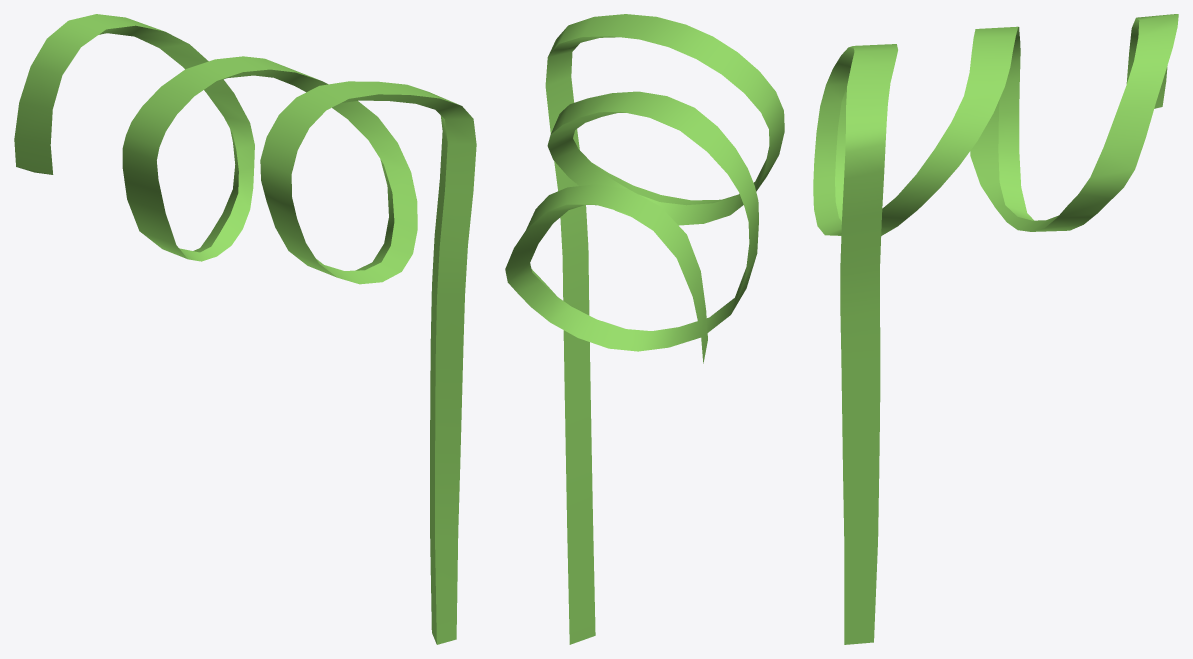
Rendered from lianas_O.fbx.
The picture shows the model from 3 angles, left to right: view 1: azimuth 30°, elevation 25°; view 2: azimuth 150°, elevation 25°; view 3: azimuth 270°, elevation 25°; orthographic projection. The views are drawn at different scales.
Parts seen in each view (by area): view 1: liana_O_thick, liana_O; view 2: liana_O_thick, liana_O; view 3: liana_O_thick, liana_O.
Boxes of the visible parts, bbox=[...] form: liana_O_thick: bbox=[14, 14, 476, 644]; liana_O: bbox=[46, 14, 446, 629]; liana_O_thick: bbox=[505, 14, 784, 644]; liana_O: bbox=[525, 16, 784, 313]; liana_O_thick: bbox=[813, 14, 1178, 644]; liana_O: bbox=[830, 14, 1178, 644].
Bounding box in the file's own units: 32.48 × 59.07 × 35.8.
